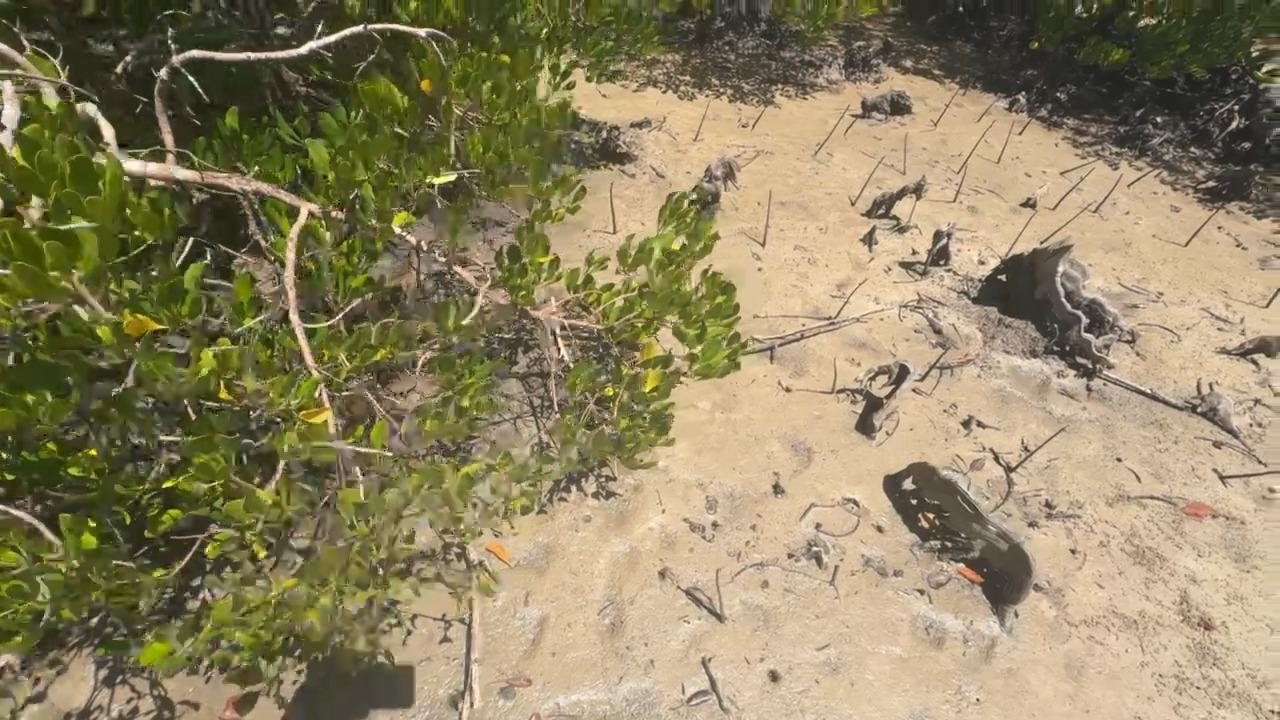Tree: (1010, 425, 1067, 472), (1040, 201, 1094, 245), (958, 119, 996, 174), (1127, 152, 1181, 187), (1052, 167, 1095, 210), (815, 105, 851, 155), (852, 157, 884, 206), (1004, 211, 1038, 257), (1184, 208, 1221, 247), (834, 278, 868, 319), (1095, 173, 1124, 215), (920, 345, 950, 383), (1019, 101, 1046, 135), (935, 89, 958, 126), (997, 119, 1014, 165), (694, 101, 710, 141), (976, 96, 1000, 122), (1061, 158, 1100, 174), (714, 567, 725, 623), (752, 102, 770, 132), (1221, 470, 1280, 479), (953, 165, 968, 200), (763, 189, 771, 248), (1265, 287, 1280, 309), (610, 181, 616, 234), (830, 356, 838, 394), (844, 115, 858, 133), (903, 130, 907, 174), (962, 82, 971, 96)
